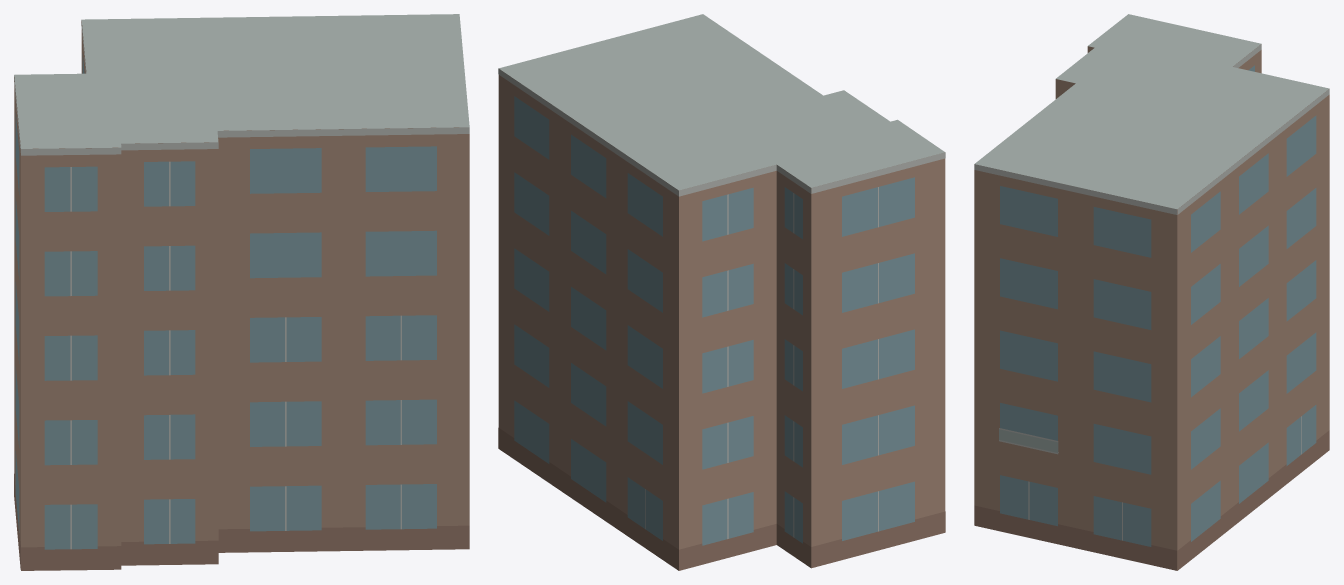
Rendered from survey-upis-32882989.glb.
3 views of the same model, side by side, from view 1: azimuth 30°, elevation 25°; view 2: azimuth 150°, elevation 25°; view 3: azimuth 270°, elevation 25° (orthographic). The views are drawn at different scales.
Parts seen in each view (by area): view 1: survey-upis-32882989.tmp; view 2: survey-upis-32882989.tmp; view 3: survey-upis-32882989.tmp.
Boxes of the visible parts, x1,y1,x2,y2 form: survey-upis-32882989.tmp: (14, 14, 469, 570); survey-upis-32882989.tmp: (498, 14, 945, 570); survey-upis-32882989.tmp: (974, 14, 1329, 570).
Bounding box in the file's own units: 17.68 × 15.25 × 13.6.
